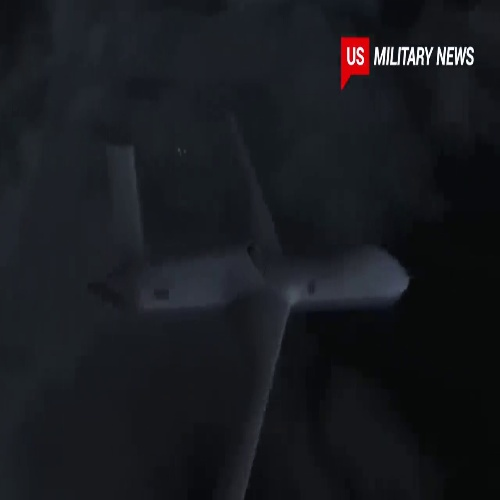uav: (105, 143, 409, 500)
